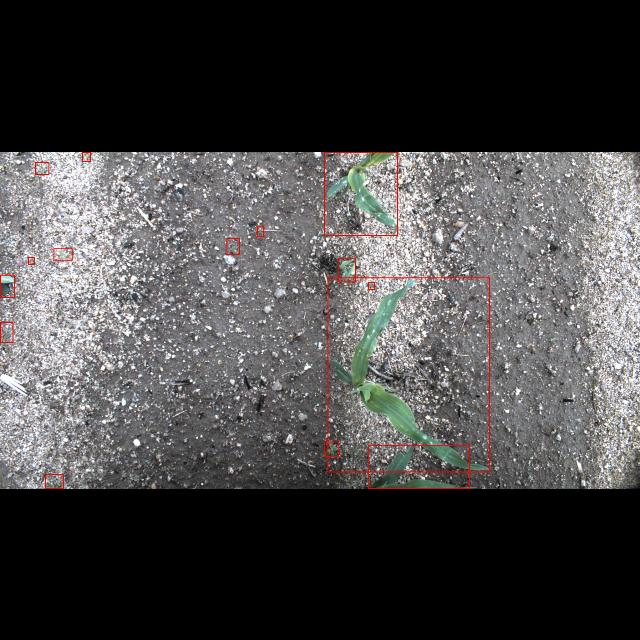crop: (328, 276, 490, 472), (324, 152, 398, 235), (368, 444, 469, 488), (338, 258, 356, 282), (0, 274, 14, 298)
weed: (0, 322, 14, 342), (45, 474, 63, 488), (54, 248, 72, 260), (227, 237, 240, 253), (325, 442, 339, 456), (35, 161, 49, 173), (256, 224, 264, 236), (82, 152, 90, 160), (368, 281, 374, 289), (28, 256, 34, 264)
